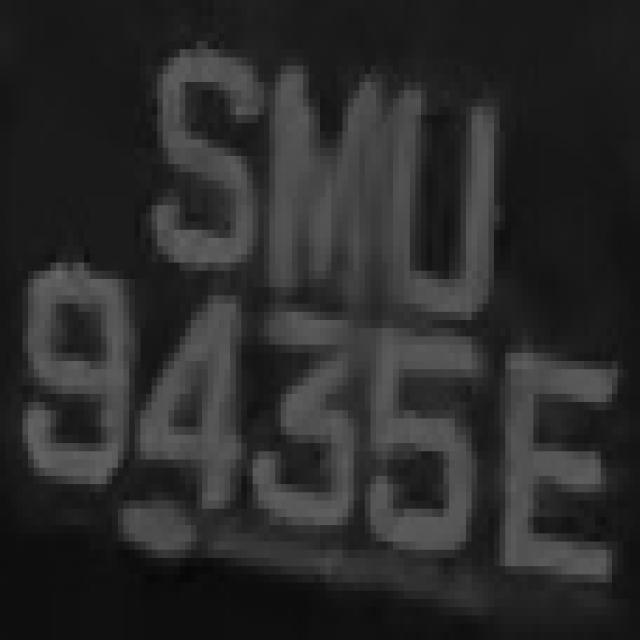3: (264, 254, 370, 550)
4: (129, 246, 258, 533)
5: (382, 287, 472, 591)
9: (17, 214, 129, 501)
E: (511, 320, 629, 624)
M: (252, 41, 382, 320)
S: (118, 41, 264, 287)
U: (399, 58, 505, 336)
